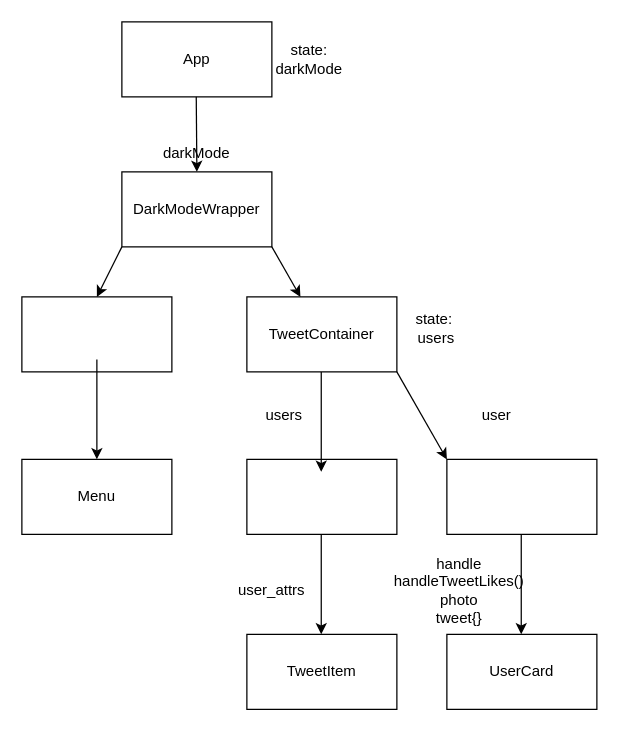
Some shapes in this 619 by 731 pixel diagram are drawn without their labels. The centre of each missing label's shape, as x and y in pixels:
"Header" belongs at (x=96, y=334).
"TweetList" belongs at (x=321, y=496).
"UserList" belongs at (x=521, y=496).
